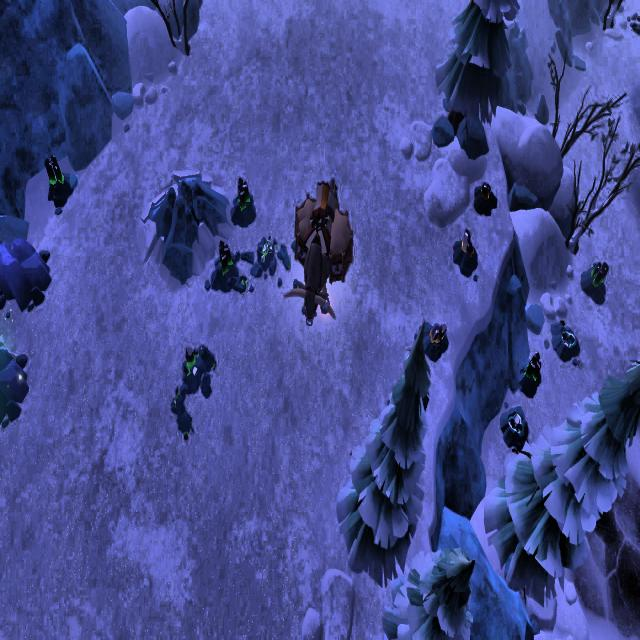ore_t3: (45, 147, 66, 186), (218, 237, 232, 287), (234, 174, 253, 210), (522, 347, 540, 384), (590, 258, 608, 292)
rock_t4: (0, 230, 50, 310)
